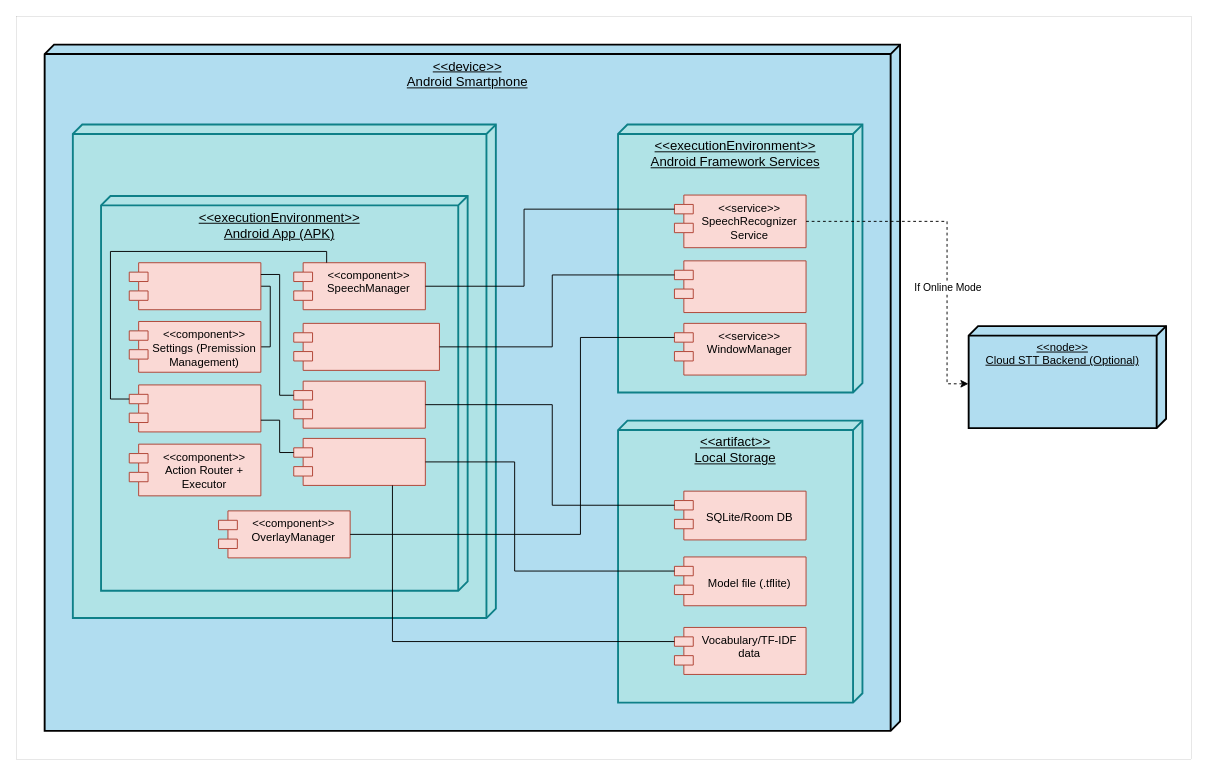
Image size: 1207x775. Some labels were removed from this diagram. The box of each missing label's shape, as (x1, y1, x2, y2) in pixels:
<<component>> LogHistory: (293, 380, 425, 428)
<<component>> MainActivity (UI): (128, 262, 261, 310)
<<component>> ML Intent Classifier: (293, 437, 425, 485)
<<component>> NLP/Preprocess: (128, 384, 261, 432)
<<component>> VoiceAssistantService: (293, 322, 439, 370)
<<executionEnvironment>> Android OS: (71, 123, 496, 619)
<<service>> Accessibility Service API: (674, 260, 806, 313)
